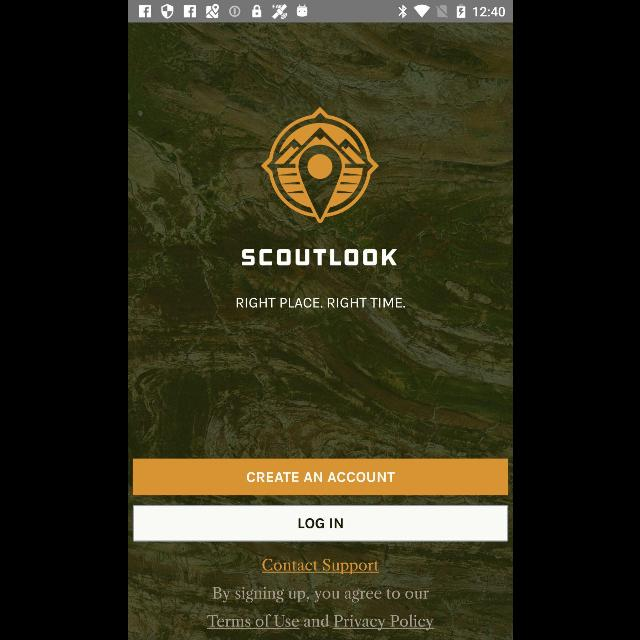backgroundimage: (128, 22, 512, 640)
image: (260, 106, 378, 224)
text: (206, 587, 434, 631), (241, 248, 397, 266), (260, 558, 378, 576), (236, 298, 404, 308)
textbutton: (132, 504, 508, 542), (132, 458, 508, 496)
uppertaskbar: (128, 1, 512, 23)
